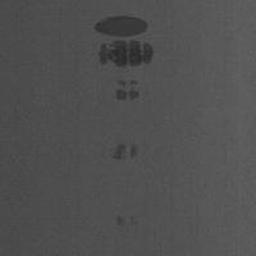Oil spot: (93, 14, 156, 69), (113, 79, 141, 101), (111, 141, 138, 163), (114, 210, 140, 228)
